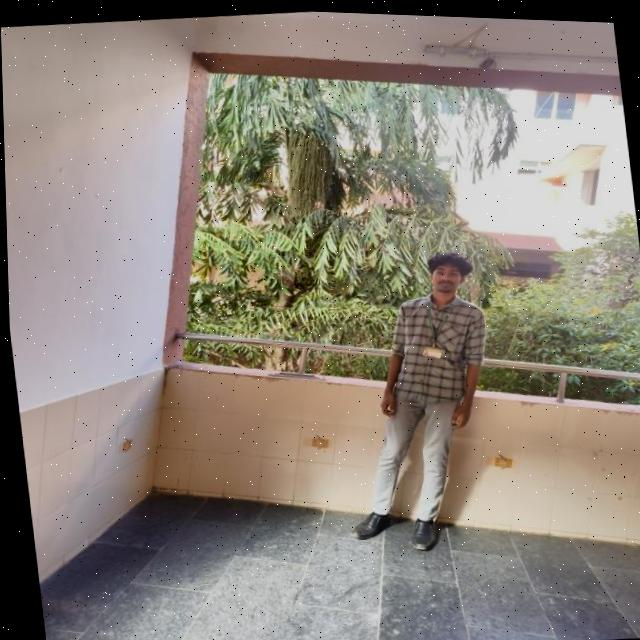id_card: (416, 305, 447, 358)
